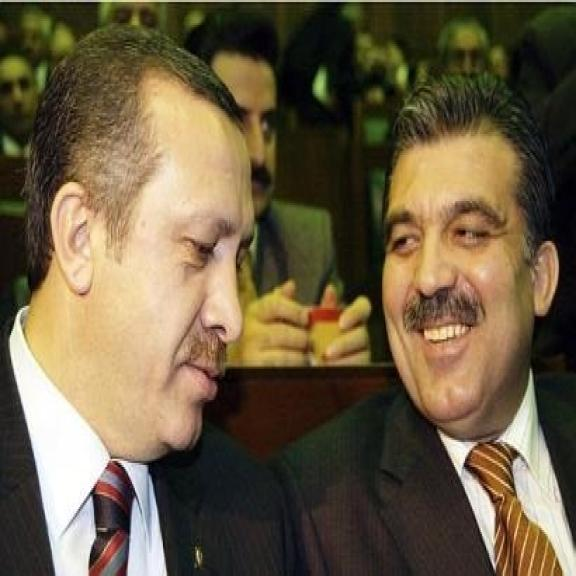face: (26, 53, 254, 471), (380, 106, 563, 436), (203, 35, 284, 220)
